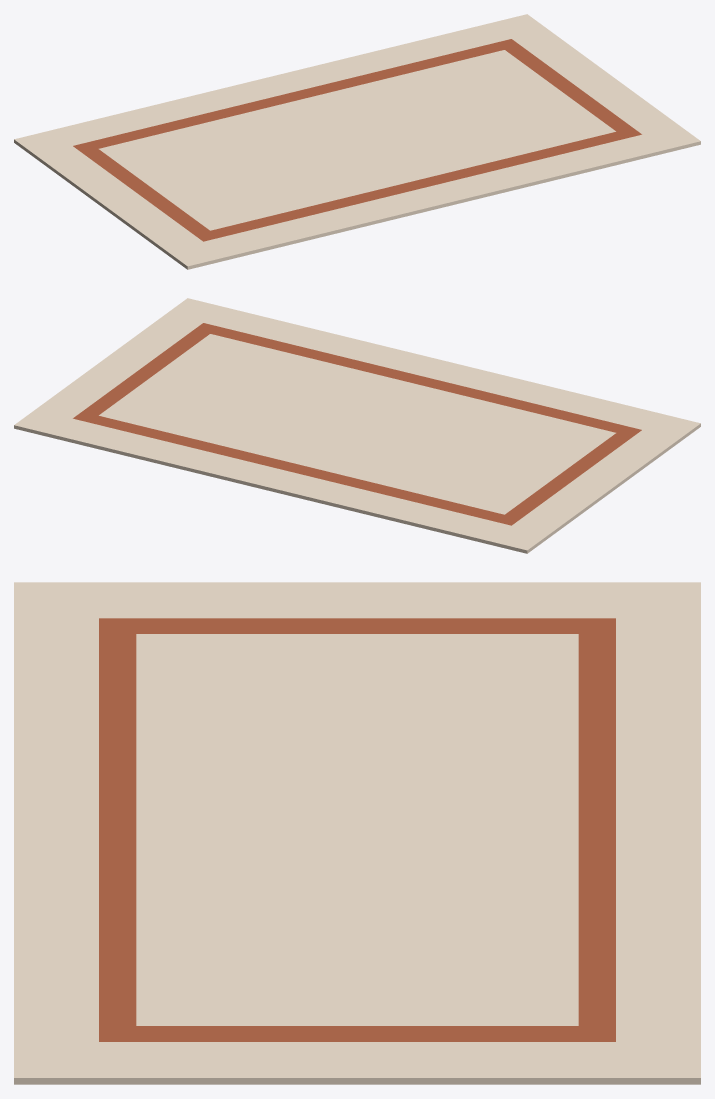
File: kitRugRectangle.glb
3 renders of one model, top to bottom at view 1: azimuth 30°, elevation 25°; view 2: azimuth 150°, elevation 25°; view 3: azimuth 270°, elevation 25°, orthographic. The views are drawn at different scales.
Parts seen in each view (by area): view 1: kitRugRectangle_fabric, kitRugRectangle_fabricDark; view 2: kitRugRectangle_fabric, kitRugRectangle_fabricDark; view 3: kitRugRectangle_fabric, kitRugRectangle_fabricDark.
Boxes of the visible parts, box(x1,y1,x2,y2) form: kitRugRectangle_fabric: box(14, 14, 700, 269); kitRugRectangle_fabricDark: box(73, 39, 641, 241); kitRugRectangle_fabric: box(14, 298, 700, 553); kitRugRectangle_fabricDark: box(73, 323, 641, 525); kitRugRectangle_fabric: box(14, 582, 700, 1084); kitRugRectangle_fabricDark: box(99, 618, 615, 1041).
Bounding box in the file's own units: 2.96 × 0.0189 × 1.73.
